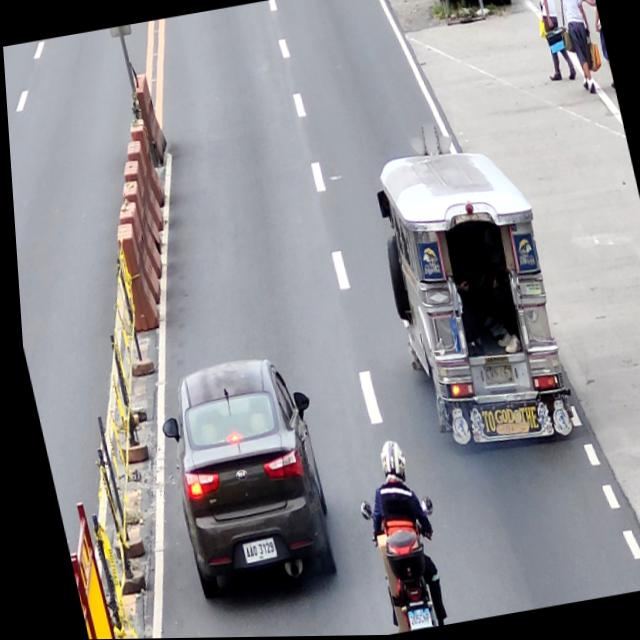Car: (142, 348, 341, 603)
Jeep: (359, 138, 576, 464)
License-Plate: (233, 537, 270, 566), (477, 362, 511, 388), (396, 605, 425, 632)
Motorcycle: (349, 485, 450, 636)
